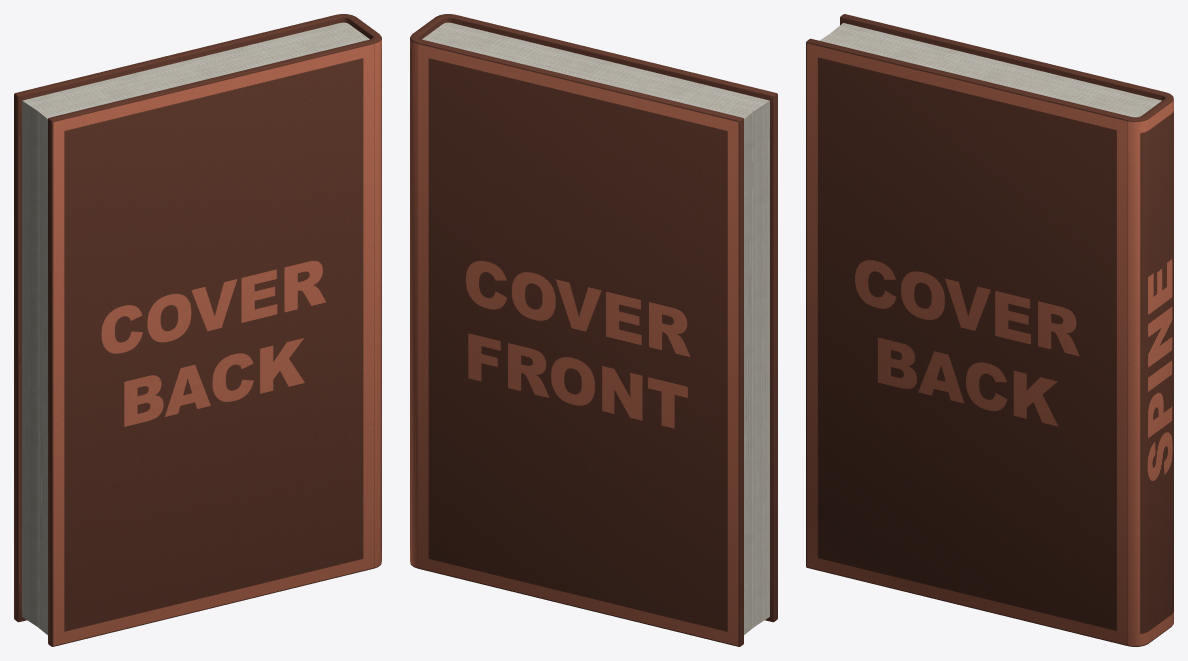
The model's file is book2.gltf.
The picture shows the model from 3 angles, left to right: view 1: azimuth 30°, elevation 25°; view 2: azimuth 150°, elevation 25°; view 3: azimuth 330°, elevation 25°; orthographic projection.
Visible parts, largest first — view 1: CoverBack, PagesFront, PagesBack, CoverFront, Spine; view 2: CoverFront, PagesBack, CoverBack, PagesFront, Spine; view 3: CoverBack, Spine, PagesBack, PagesFront, CoverFront.
Part boxes in pixels (<box>): CoverBack: <box>48,39,374,646</box>; PagesFront: <box>22,22,359,626</box>; PagesBack: <box>37,32,369,634</box>; CoverFront: <box>14,14,339,622</box>; Spine: <box>337,14,381,568</box>; CoverFront: <box>417,39,743,646</box>; PagesBack: <box>431,22,769,626</box>; CoverBack: <box>452,14,777,622</box>; PagesFront: <box>422,32,753,634</box>; Spine: <box>410,14,454,568</box>; CoverBack: <box>806,38,1130,645</box>; Spine: <box>1128,92,1173,646</box>; PagesBack: <box>819,34,1147,117</box>; PagesFront: <box>830,23,1161,110</box>; CoverFront: <box>840,14,1164,100</box>.
Size of what is drawn, in the model's own units: 0.2673 by 0.4009 by 0.0531.
Materials: 2 (2 with a texture image).
